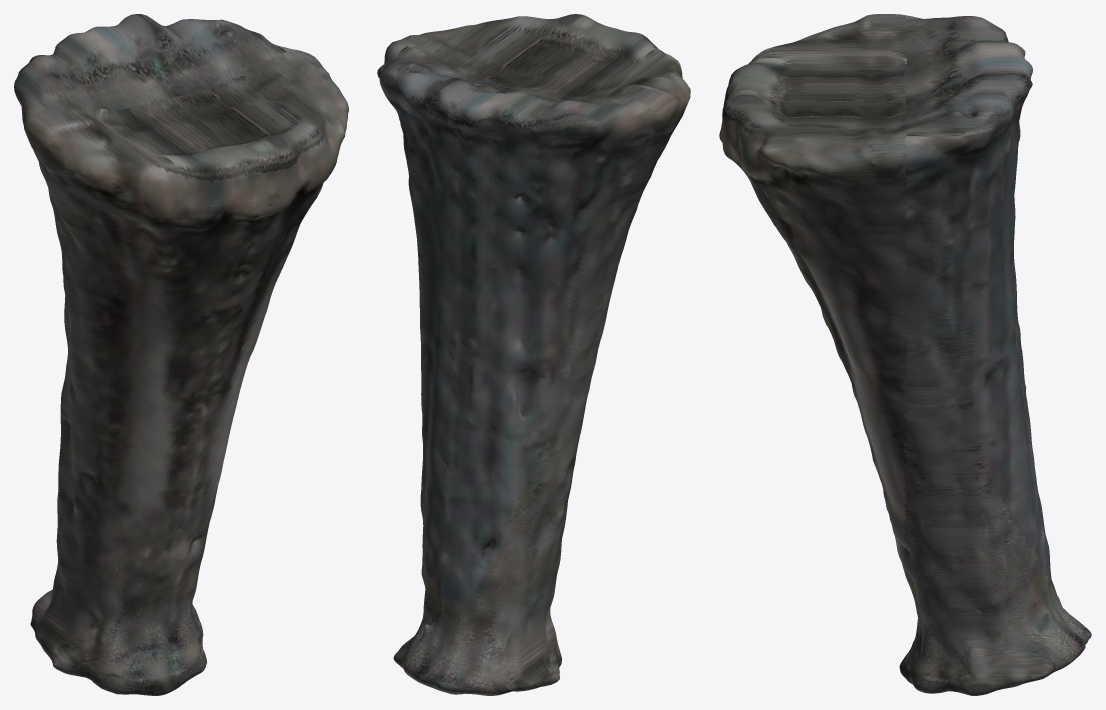
Rendered from kfl-2265.glb.
3 renders of one model, left to right at view 1: azimuth 30°, elevation 25°; view 2: azimuth 150°, elevation 25°; view 3: azimuth 270°, elevation 25°, orthographic. The views are drawn at different scales.
Parts seen in each view (by area): view 1: geometry_0; view 2: geometry_0; view 3: geometry_0.
Boxes of the visible parts, x1,y1,x2,y2 form: geometry_0: [14, 14, 348, 695]; geometry_0: [377, 14, 690, 695]; geometry_0: [719, 14, 1091, 695].
Bounding box in the file's own units: 0.4808 × 0.9953 × 0.541.
Materials: 1 (1 with a texture image).
